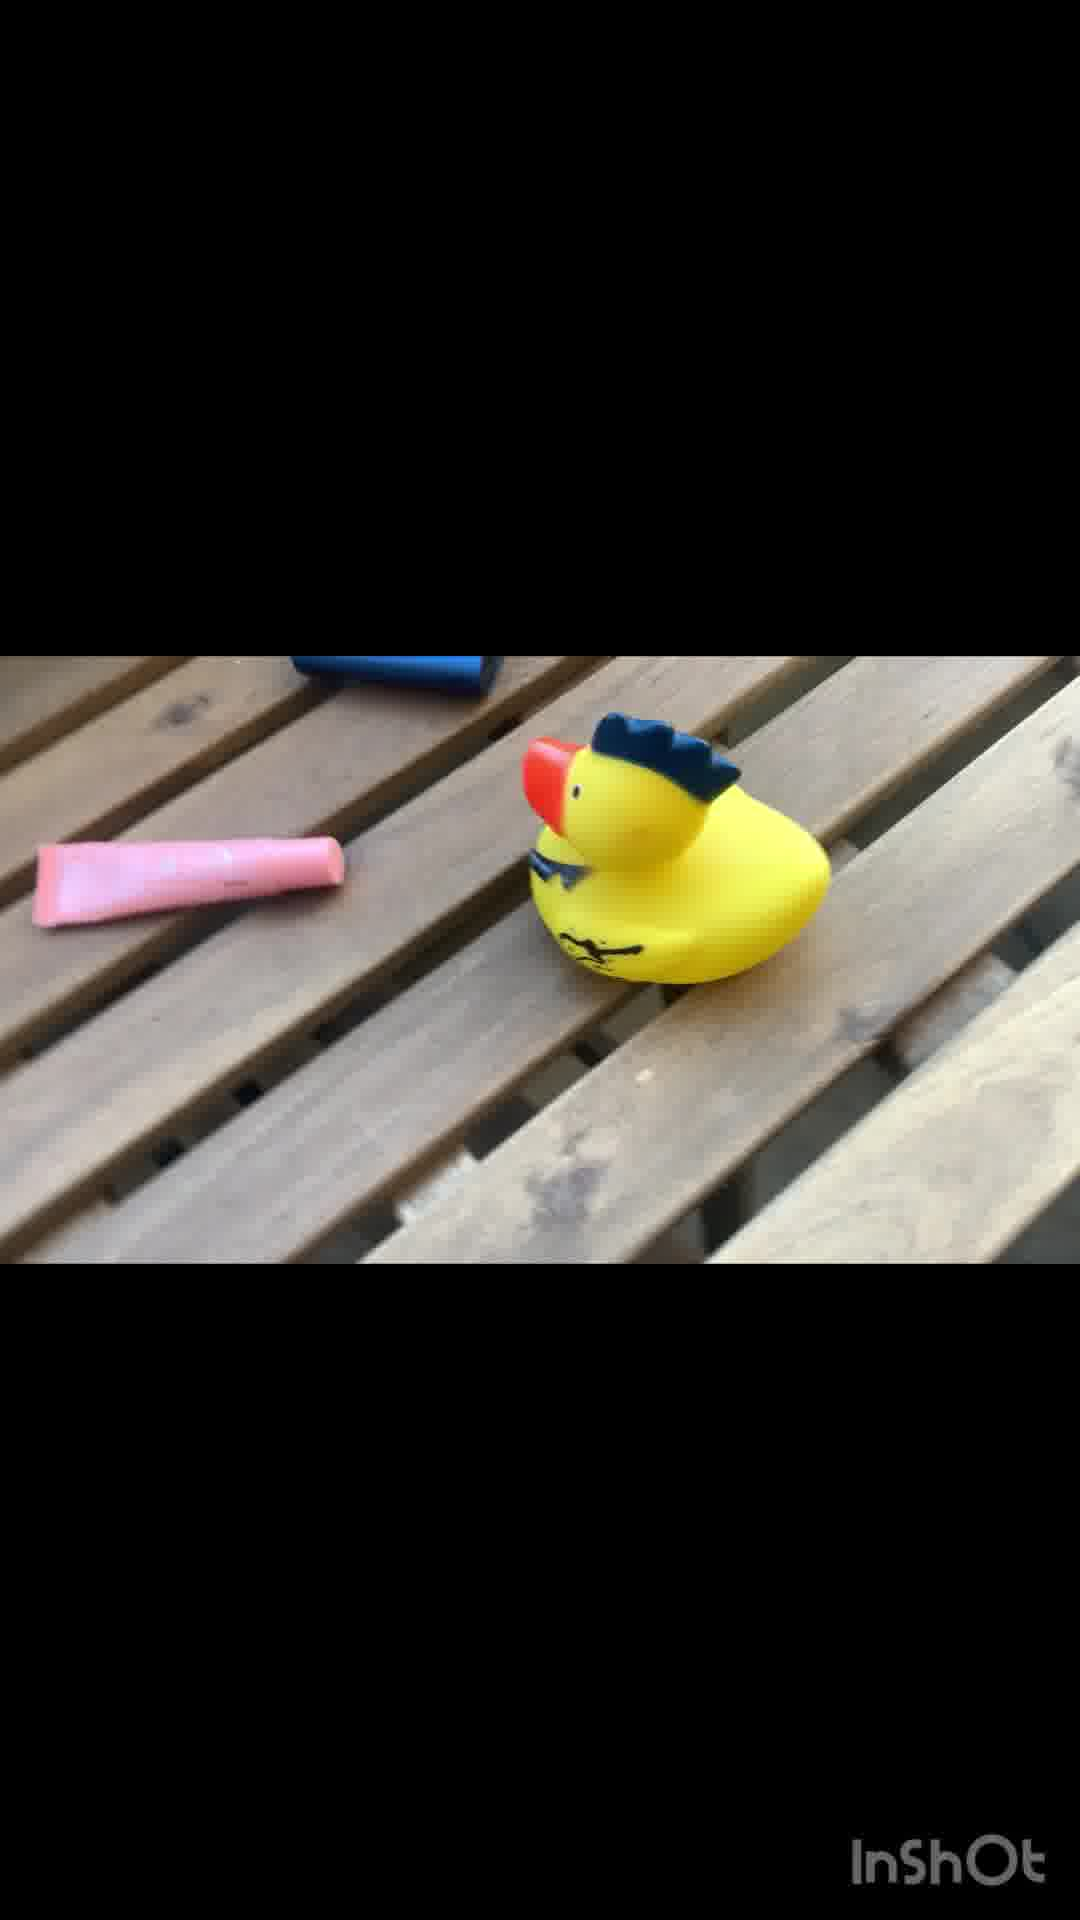duck: (518, 705, 847, 1011)
glo: (290, 654, 505, 698)
lip balm: (22, 818, 364, 931)
